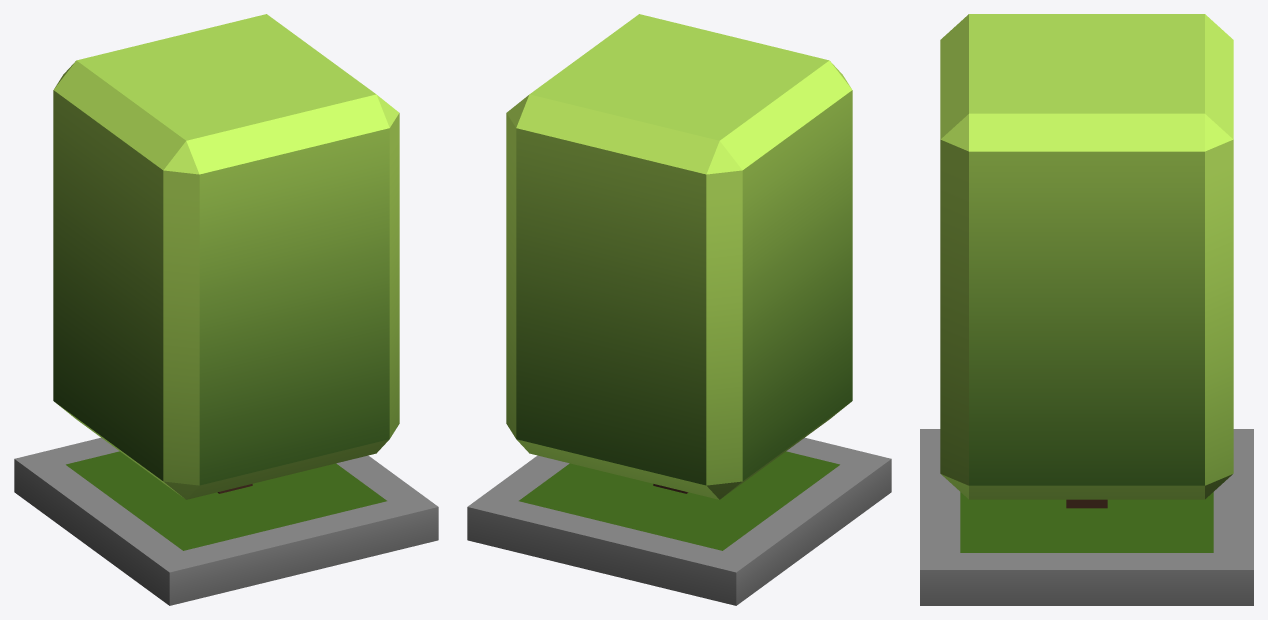
File: tree.fbx
The picture shows the model from 3 angles, left to right: view 1: azimuth 30°, elevation 25°; view 2: azimuth 150°, elevation 25°; view 3: azimuth 270°, elevation 25°; orthographic projection. The views are drawn at different scales.
Visible parts, largest first — view 1: tree_; view 2: tree_; view 3: tree_.
Part boxes in pixels (box(x1,y1,x2,y2)): tree_: box(14, 14, 438, 605); tree_: box(467, 14, 891, 605); tree_: box(920, 14, 1253, 605).
Bounding box in the file's own units: 169 × 263 × 169.
1 material, 1 textured.
